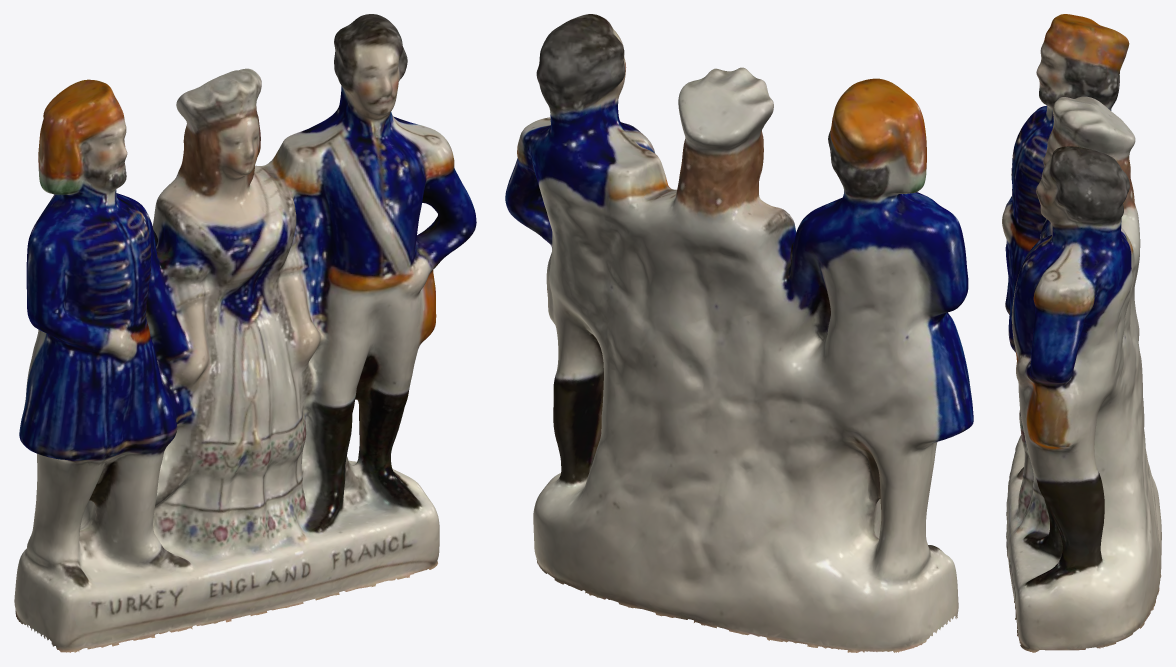
The model's file is preview.glb.
3 renders of one model, left to right at view 1: azimuth 30°, elevation 25°; view 2: azimuth 150°, elevation 25°; view 3: azimuth 270°, elevation 25°, orthographic. The views are drawn at different scales.
Parts seen in each view (by area): view 1: Object_2; view 2: Object_2; view 3: Object_2.
Boxes of the visible parts, box(x1,y1,x2,y2) form: Object_2: box(14, 14, 476, 652); Object_2: box(505, 14, 973, 652); Object_2: box(1002, 14, 1161, 652).
Size of the model in its own units: 232 by 263 by 77.76.
Materials: 1 (1 with a texture image).
